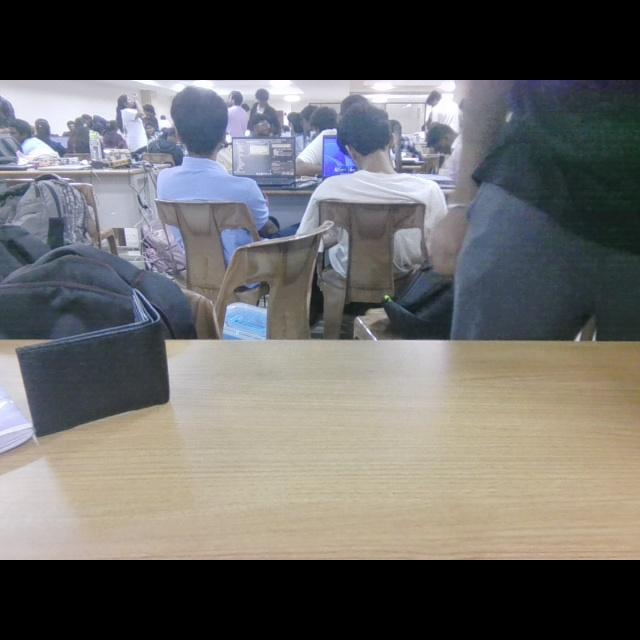wallet: (9, 321, 208, 444)
